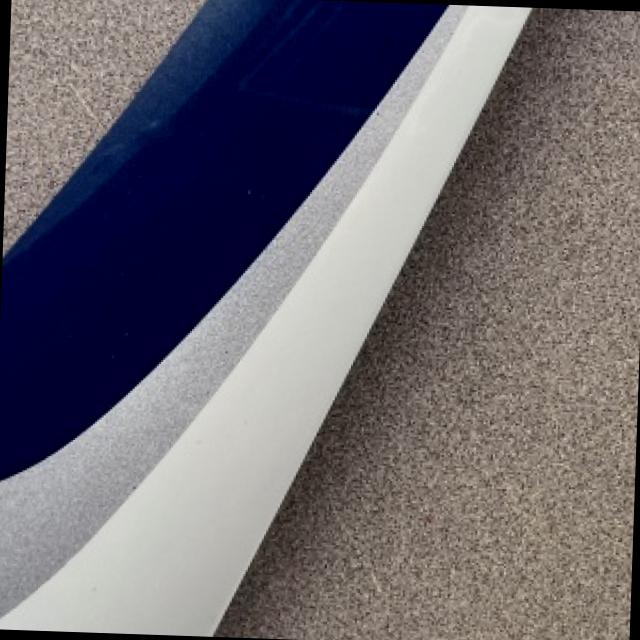healthy: (0, 4, 531, 632), (219, 7, 640, 640)
